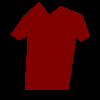abbigliamento_uomo: (10, 1, 90, 90)
